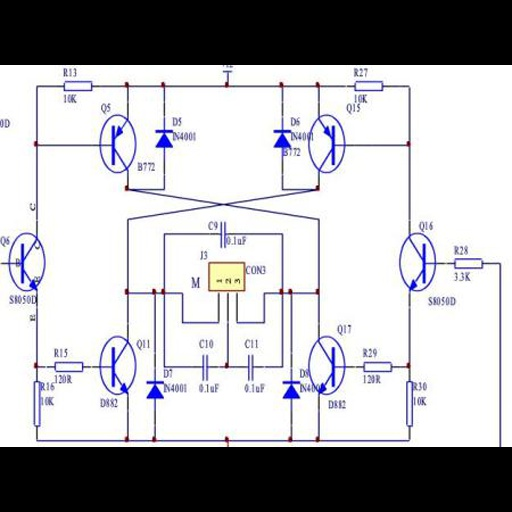capacitor: (241, 352, 261, 382), (197, 353, 216, 382), (218, 219, 228, 250)
firstdiode: (149, 124, 172, 154), (142, 379, 164, 403), (270, 126, 291, 151), (276, 380, 301, 401)
firstresistance: (403, 378, 415, 431), (59, 79, 102, 93), (351, 78, 391, 93), (30, 377, 41, 428), (358, 360, 399, 373), (448, 257, 489, 270), (50, 359, 87, 373)
npn: (14, 237, 41, 292), (105, 341, 130, 395), (318, 342, 338, 394), (409, 239, 428, 291)
pnp: (105, 118, 129, 168), (317, 118, 338, 174)
